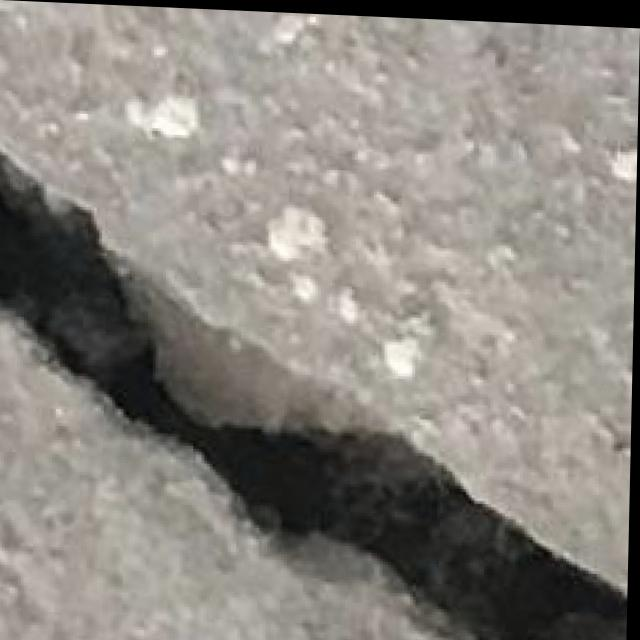Crack: (0, 146, 637, 640)
